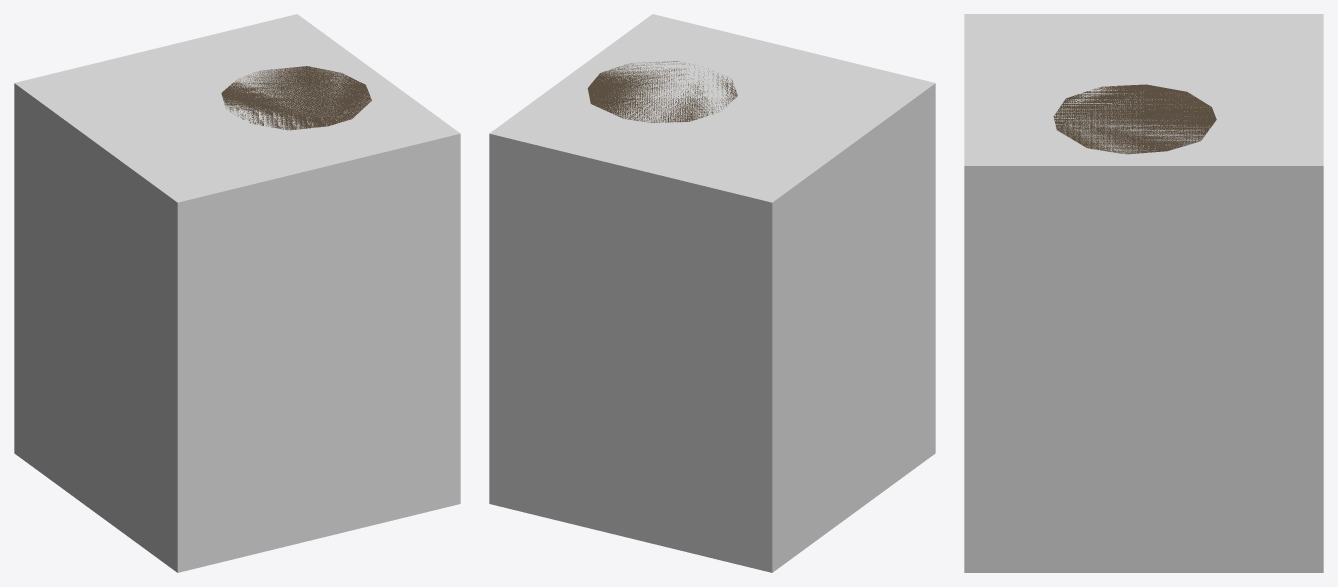
The model's file is anchor_hoodoo_b.glb.
3 renders of one model, left to right at view 1: azimuth 30°, elevation 25°; view 2: azimuth 150°, elevation 25°; view 3: azimuth 270°, elevation 25°, orthographic. The views are drawn at different scales.
Visible parts, largest first — view 1: anchor_hoodoo_b-col, anchor_hoodoo_b; view 2: anchor_hoodoo_b-col, anchor_hoodoo_b; view 3: anchor_hoodoo_b-col, anchor_hoodoo_b.
Boxes of the visible parts, x1,y1,x2,y2 form: anchor_hoodoo_b-col: (14, 14, 460, 572); anchor_hoodoo_b: (221, 66, 371, 130); anchor_hoodoo_b-col: (489, 14, 935, 572); anchor_hoodoo_b: (587, 61, 737, 122); anchor_hoodoo_b-col: (964, 14, 1323, 572); anchor_hoodoo_b: (1053, 84, 1216, 154).
Bounding box in the file's own units: 8 × 10 × 8.
